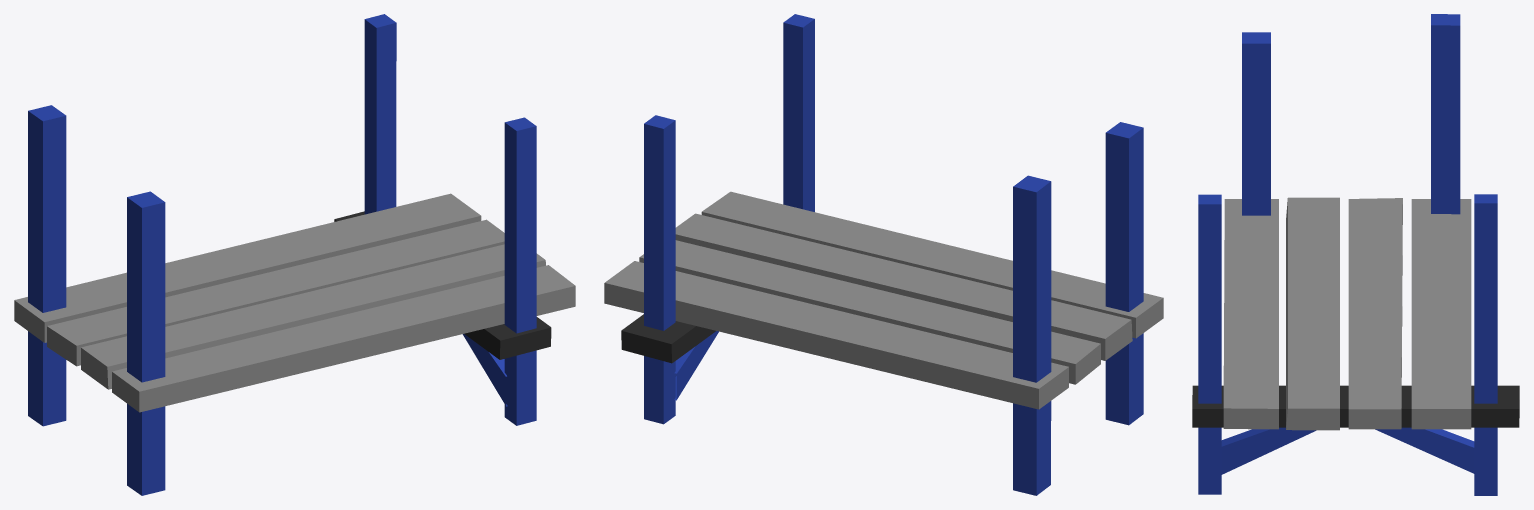
The model's file is Scaffolding_03_mm.fbx.
The picture shows the model from 3 angles, left to right: view 1: azimuth 30°, elevation 25°; view 2: azimuth 150°, elevation 25°; view 3: azimuth 270°, elevation 25°; orthographic projection.
Visible parts, largest first — view 1: Scaffolding_03; view 2: Scaffolding_03; view 3: Scaffolding_03.
Boxes of the visible parts, x1,y1,x2,y2 form: Scaffolding_03: (14,14,575,495); Scaffolding_03: (604,14,1163,495); Scaffolding_03: (1192,14,1519,495).
Size of the model in its own units: 400 by 266 by 261.
